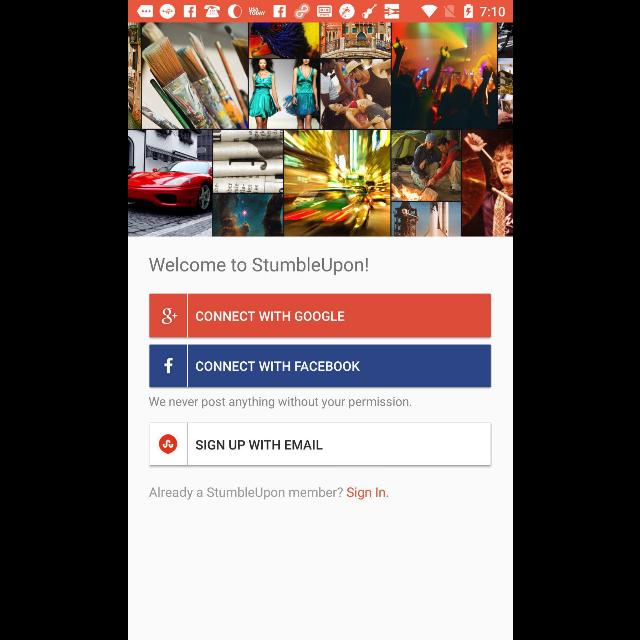image: (128, 23, 512, 237)
text: (148, 257, 368, 275), (147, 397, 410, 409), (148, 486, 388, 499)
textbutton: (148, 422, 490, 466), (148, 344, 490, 388), (148, 294, 490, 338)
uppertaskbar: (128, 1, 512, 23)
